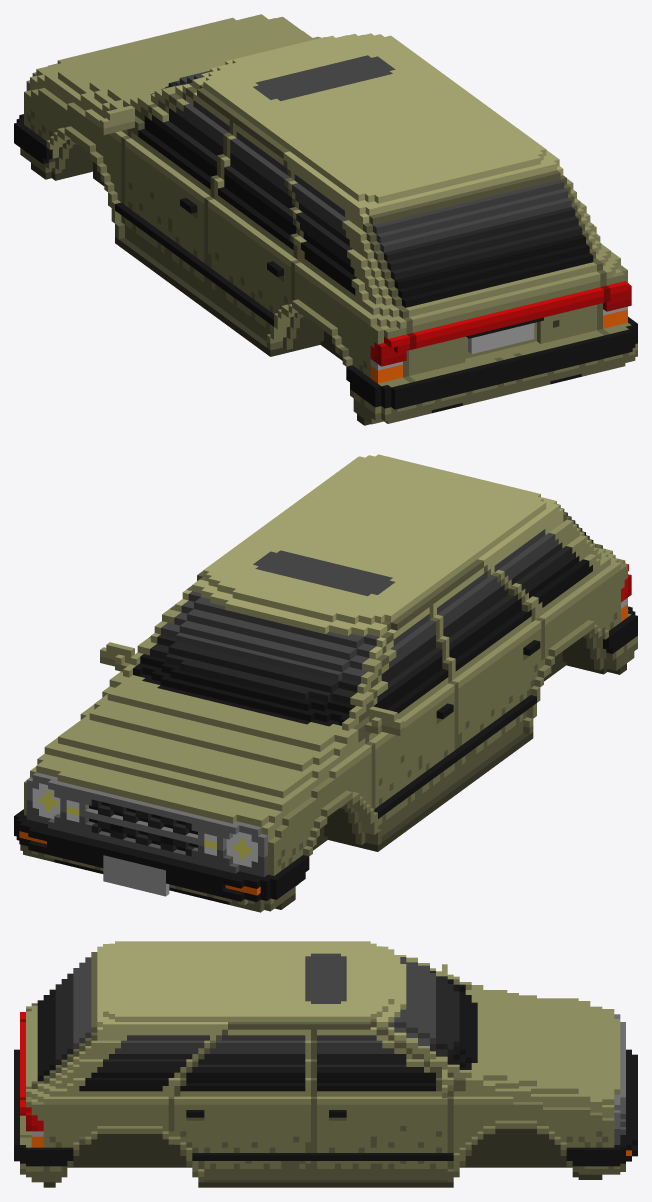
3 views of the same model, one above another, from view 1: azimuth 30°, elevation 25°; view 2: azimuth 150°, elevation 25°; view 3: azimuth 270°, elevation 25° (orthographic). The views are drawn at different scales.
Parts seen in each view (by area): view 1: VOX; view 2: VOX; view 3: VOX.
Part boxes in pixels (bbox=[...]): VOX: bbox=[14, 14, 637, 425]; VOX: bbox=[14, 454, 637, 912]; VOX: bbox=[14, 941, 637, 1187].
Size of the model in its own units: 0.048 by 0.029 by 0.105.
